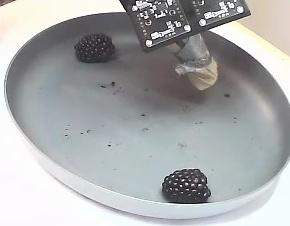berry: (162, 169, 210, 203), (74, 33, 114, 62)
